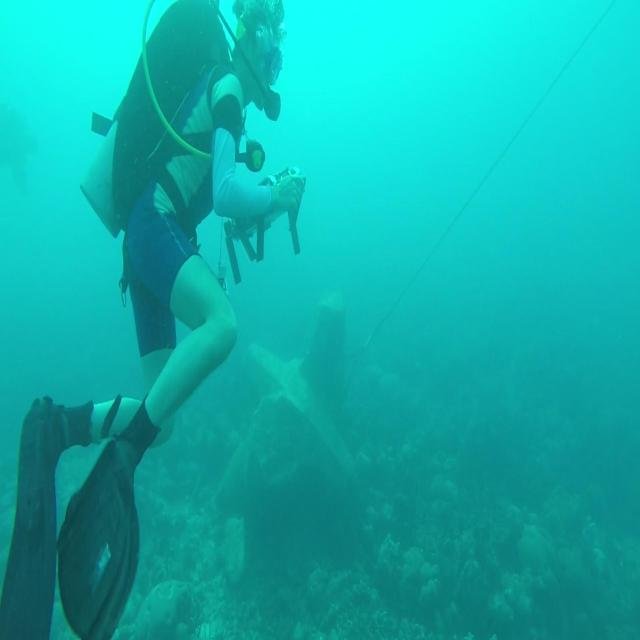human: (3, 0, 306, 638)
